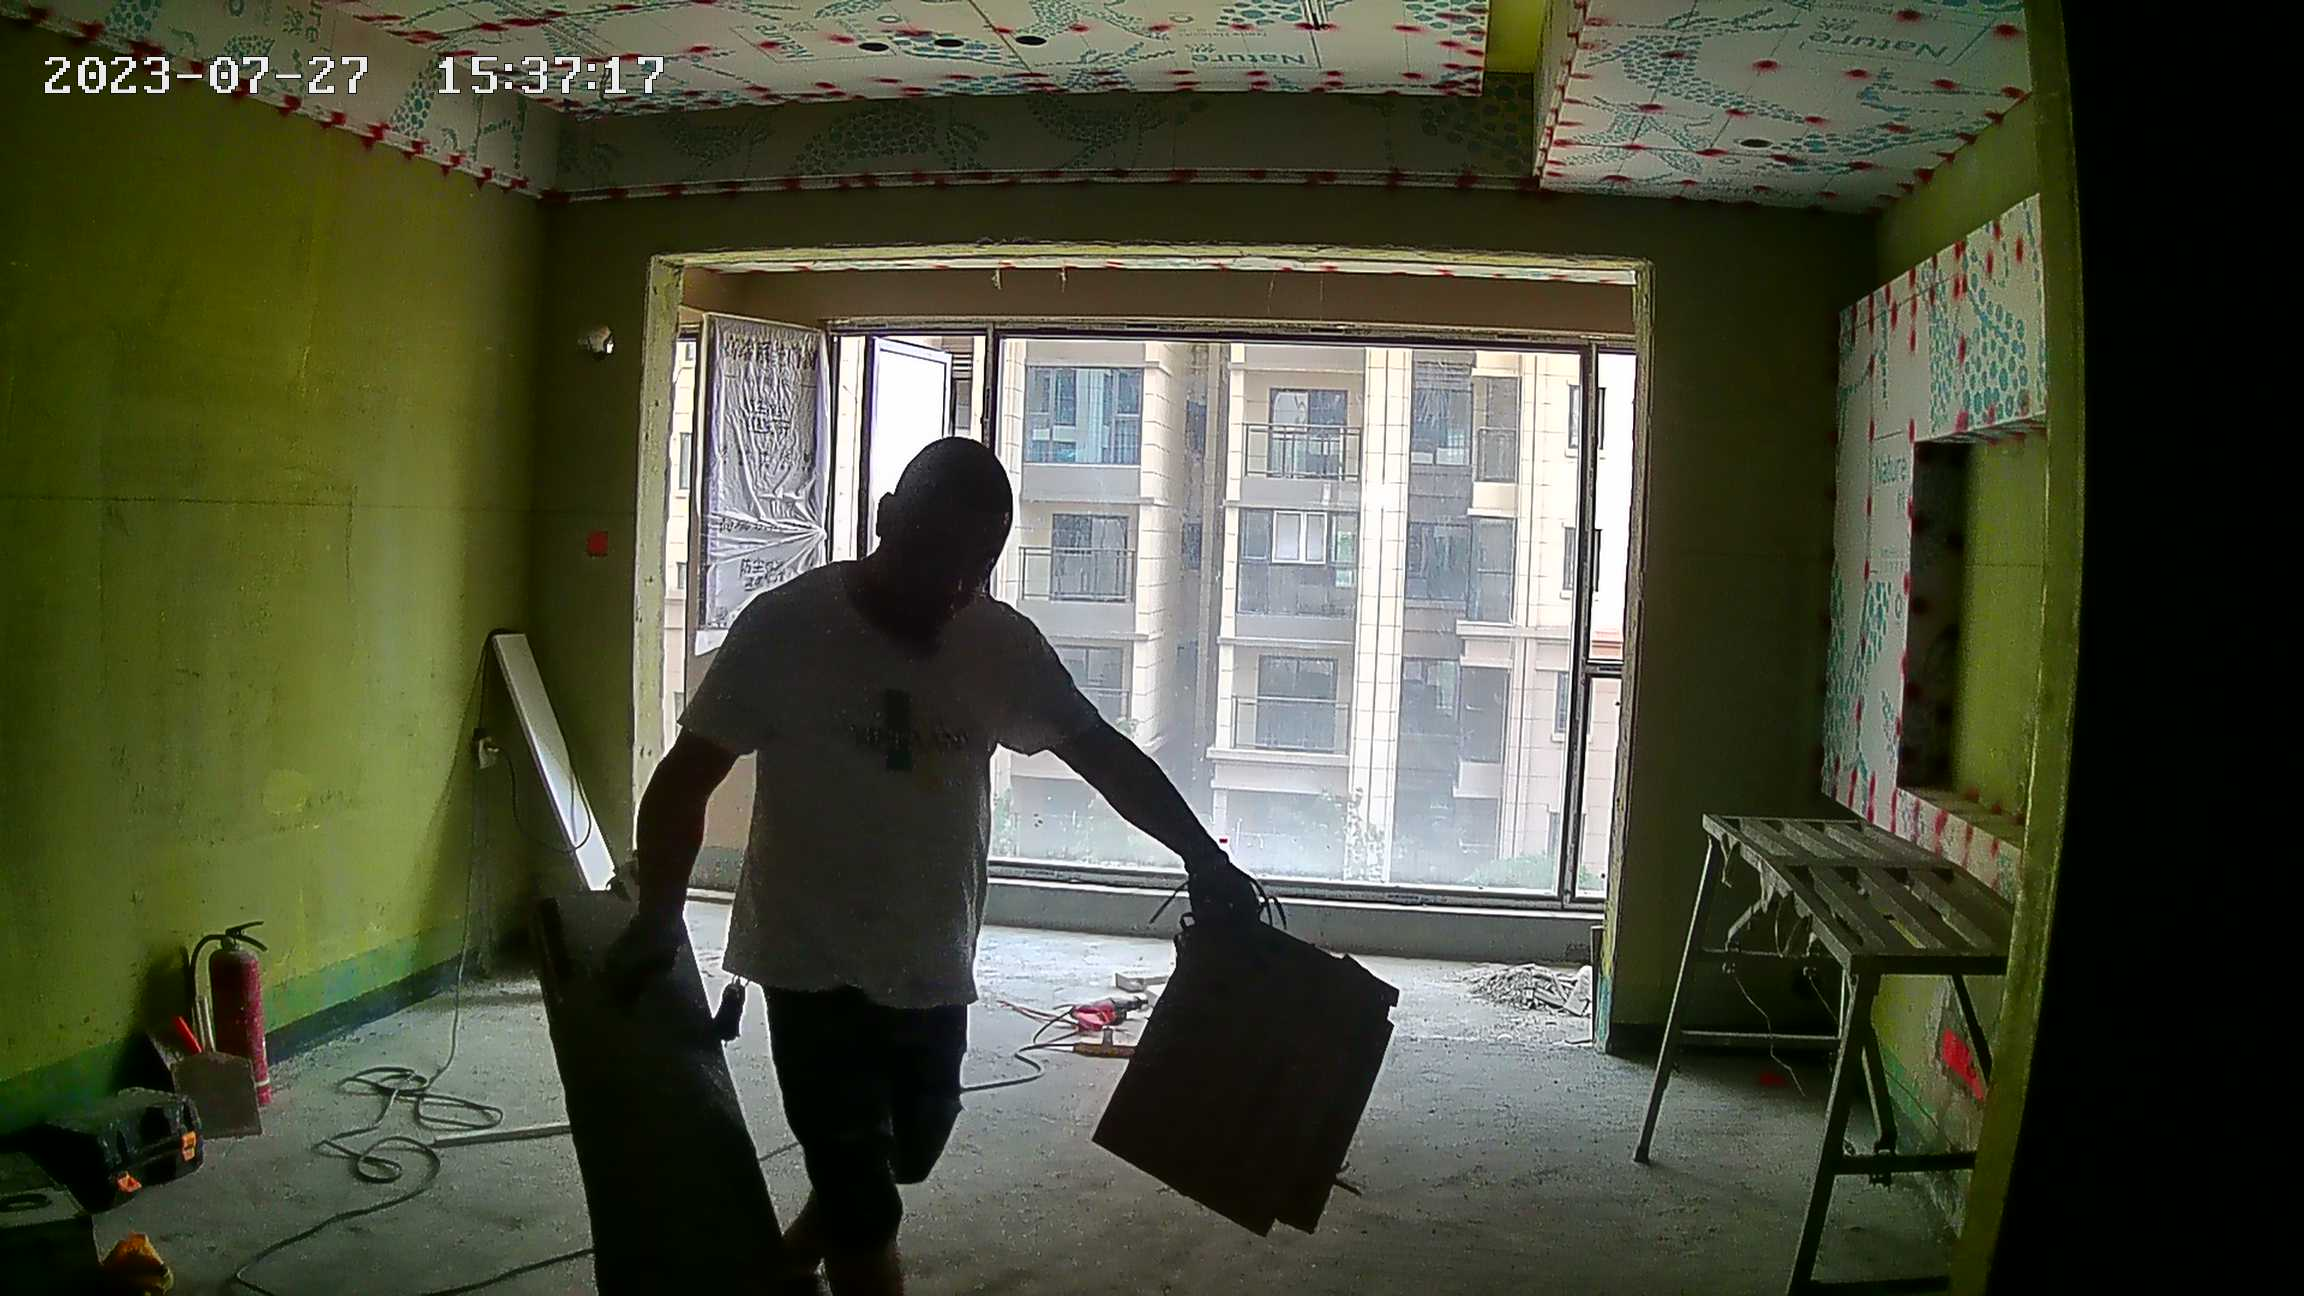people: (657, 423, 1043, 1293)
window: (669, 266, 1628, 912)
